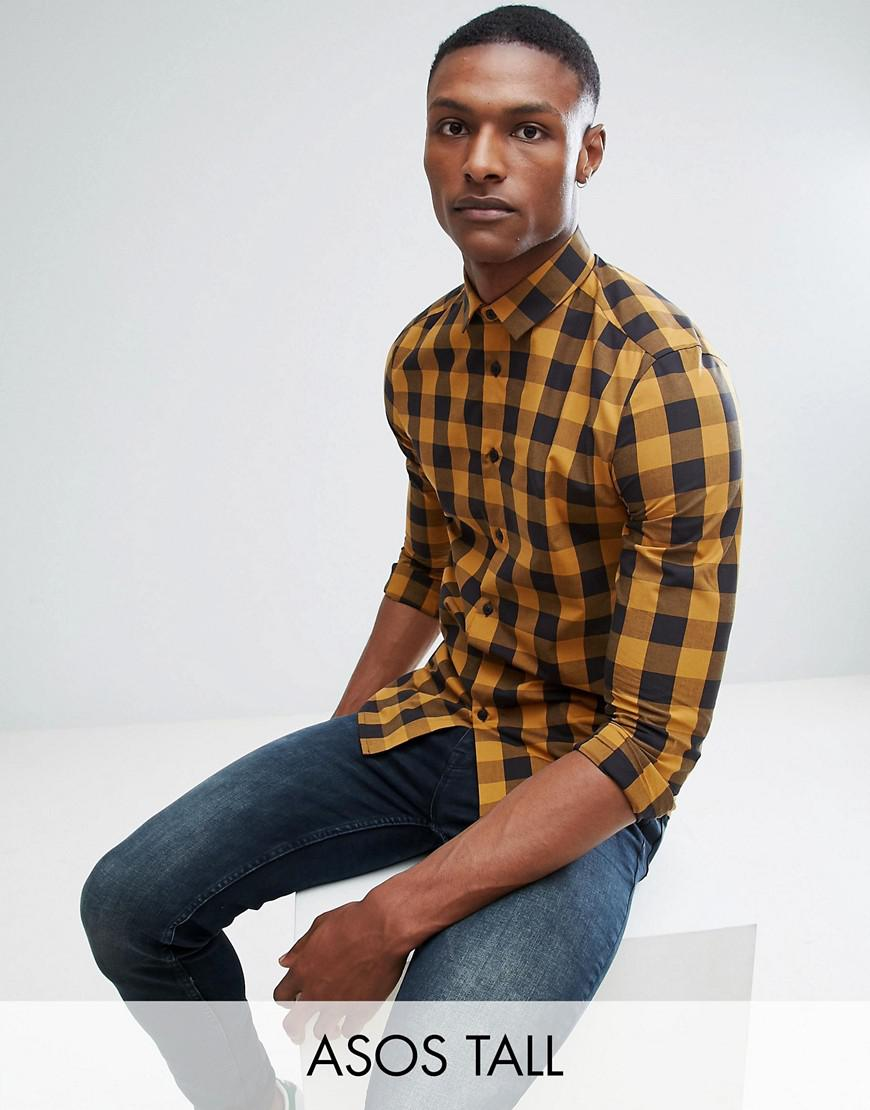teeshirt: (369, 235, 749, 851)
